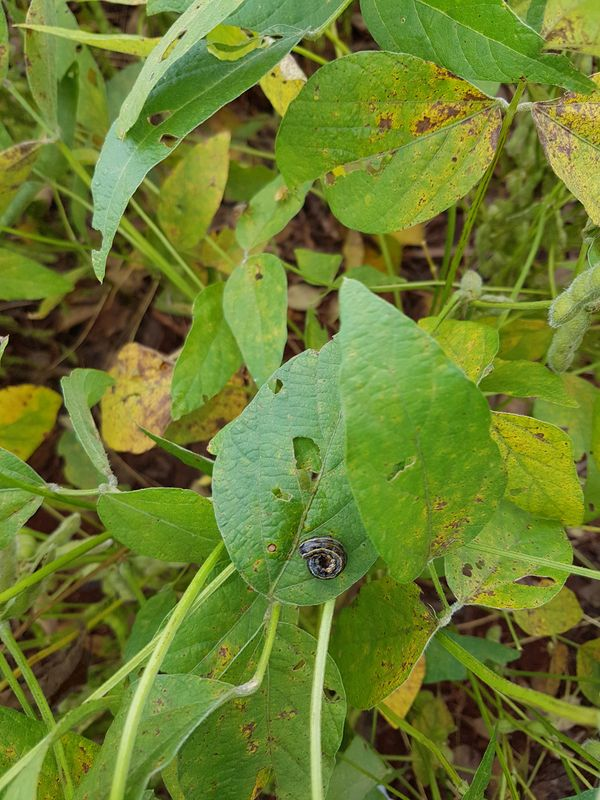Spodoptera_albula: (286, 527, 358, 597)
